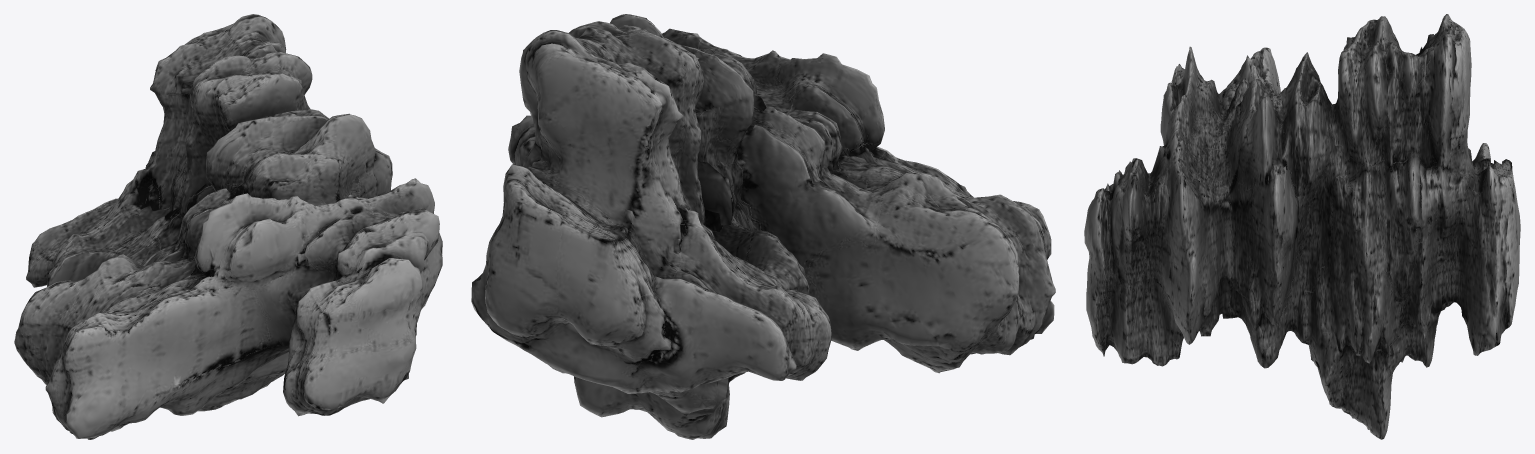
File: wall_based_pnbmk_rock.obj
The picture shows the model from 3 angles, left to right: view 1: azimuth 30°, elevation 25°; view 2: azimuth 150°, elevation 25°; view 3: azimuth 270°, elevation 25°; orthographic projection. The views are drawn at different scales.
Parts seen in each view (by area): view 1: pn_bmk_rock_low_poly.001_Cube.012; view 2: pn_bmk_rock_low_poly.001_Cube.012; view 3: pn_bmk_rock_low_poly.001_Cube.012.
Part boxes in pixels (<box>): pn_bmk_rock_low_poly.001_Cube.012: <box>14,14,442,439</box>; pn_bmk_rock_low_poly.001_Cube.012: <box>471,14,1055,439</box>; pn_bmk_rock_low_poly.001_Cube.012: <box>1084,14,1520,439</box>.
Bounding box in the file's own units: 2.53 × 2.14 × 2.06.
Materials: 1 (1 with a texture image).
